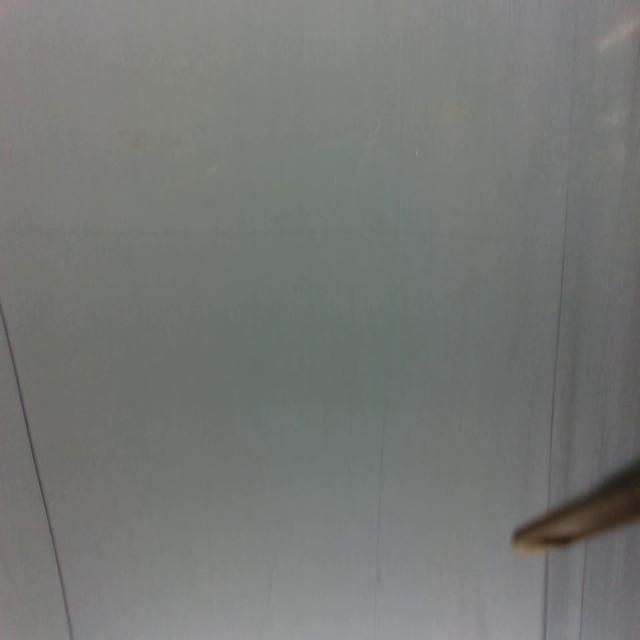crease: (0, 301, 75, 640), (547, 0, 579, 492), (372, 423, 388, 640), (577, 541, 589, 640), (540, 552, 551, 640)
hole: (415, 146, 421, 161)
